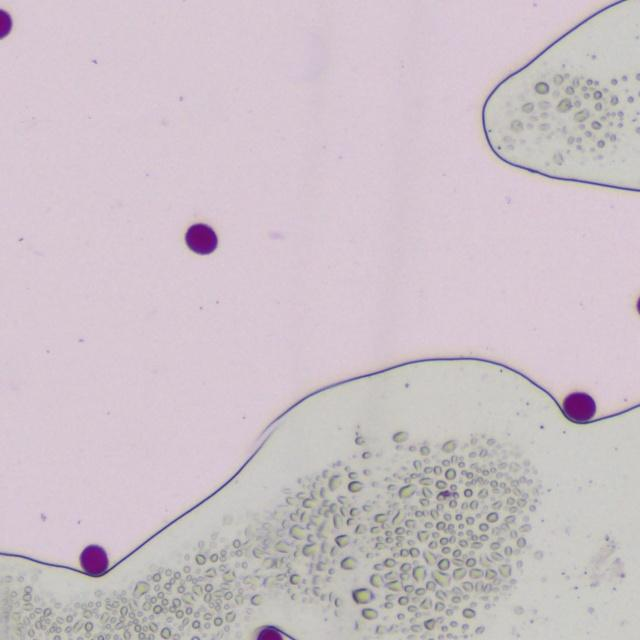viable: (186, 223, 217, 254), (563, 392, 595, 421), (80, 545, 107, 575), (0, 9, 11, 38), (257, 627, 282, 639)
